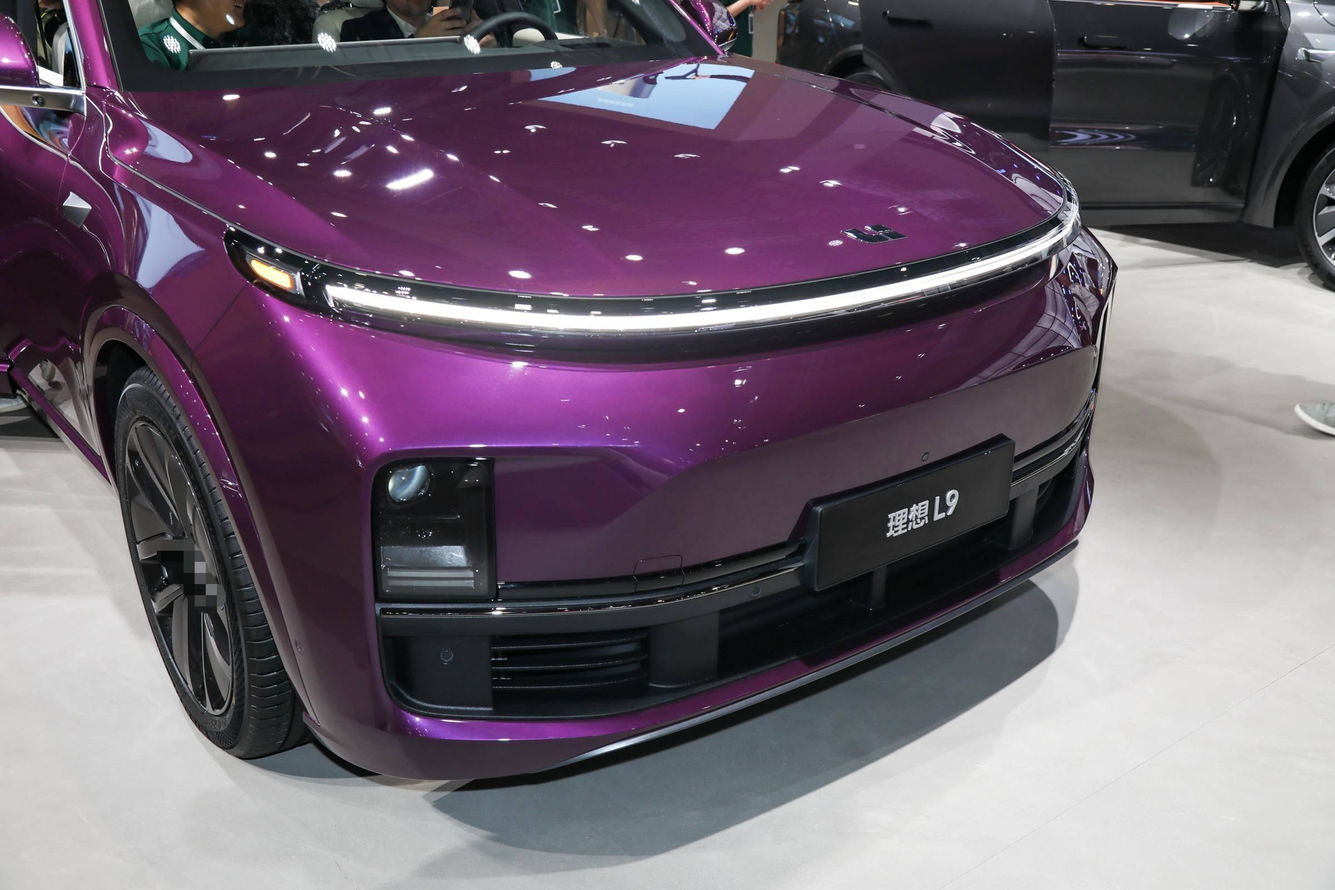Li Auto: (839, 223, 908, 245)
